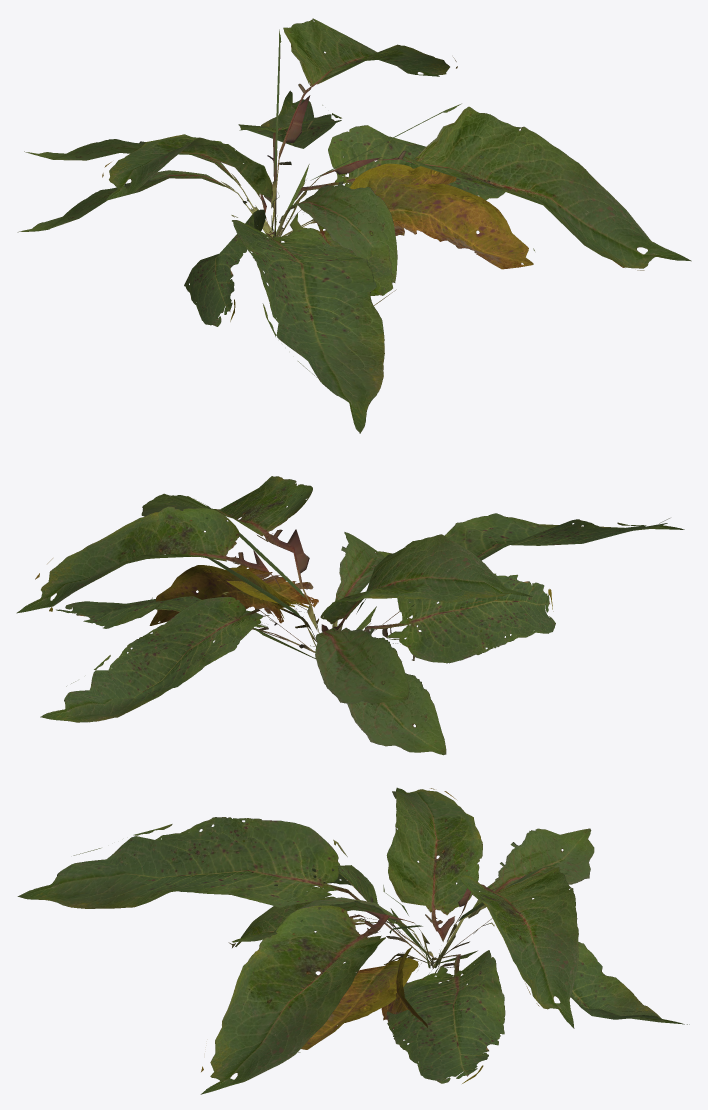
The model's file is weed_plant_02.glb.
3 views of the same model, one above another, from view 1: azimuth 30°, elevation 25°; view 2: azimuth 150°, elevation 25°; view 3: azimuth 270°, elevation 25° (orthographic). The views are drawn at different scales.
Visible parts, largest first — view 1: dock_a_LOD0, dock_b_LOD0; view 2: dock_a_LOD0, dock_b_LOD0; view 3: dock_a_LOD0, dock_b_LOD0.
Part boxes in pixels (box(x1,y1,x2,y2)): dock_a_LOD0: box(17, 103, 691, 433); dock_b_LOD0: box(24, 18, 457, 326); dock_a_LOD0: box(49, 476, 684, 755); dock_b_LOD0: box(16, 506, 555, 722); dock_a_LOD0: box(17, 787, 689, 1094); dock_b_LOD0: box(228, 828, 687, 1039).
Size of what is drawn, in the model's own units: 0.3257 by 0.0971 by 0.4308.
1 material, 1 textured.
